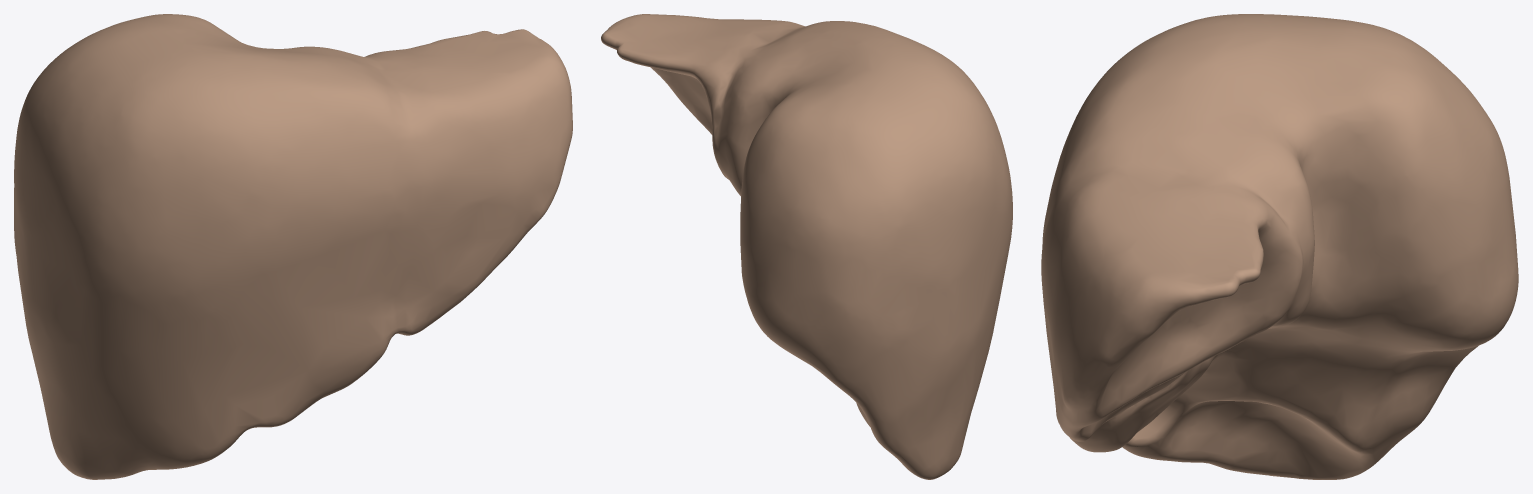
The model's file is liver.glb.
3 renders of one model, left to right at view 1: azimuth 30°, elevation 25°; view 2: azimuth 150°, elevation 25°; view 3: azimuth 270°, elevation 25°, orthographic. The views are drawn at different scales.
Visible parts, largest first — view 1: FMA7197.stl; view 2: FMA7197.stl; view 3: FMA7197.stl.
Boxes of the visible parts, x1,y1,x2,y2 form: FMA7197.stl: (14,14,572,479); FMA7197.stl: (601,14,1012,479); FMA7197.stl: (1041,14,1518,479).
Bounding box in the file's own units: 2 × 1.75 × 1.51.
